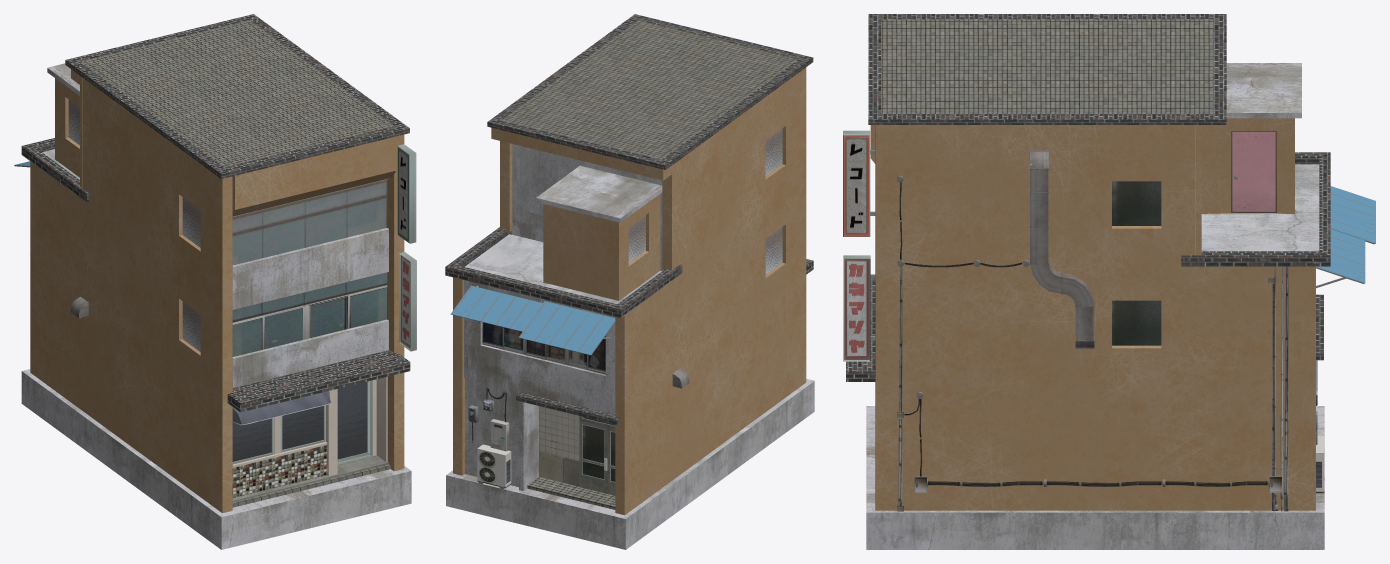
Rendered from building_middle_1.fbx.
3 renders of one model, left to right at view 1: azimuth 30°, elevation 25°; view 2: azimuth 150°, elevation 25°; view 3: azimuth 270°, elevation 25°, orthographic. The views are drawn at different scales.
Visible parts, largest first — view 1: building_middle_1; view 2: building_middle_1; view 3: building_middle_1.
Part boxes in pixels (box(x1,y1,x2,y2)): building_middle_1: box(14, 14, 416, 549); building_middle_1: box(445, 14, 814, 549); building_middle_1: box(843, 14, 1375, 549).
Size of the model in its own units: 653 by 1293 by 1152.
10 materials, 10 textured.
